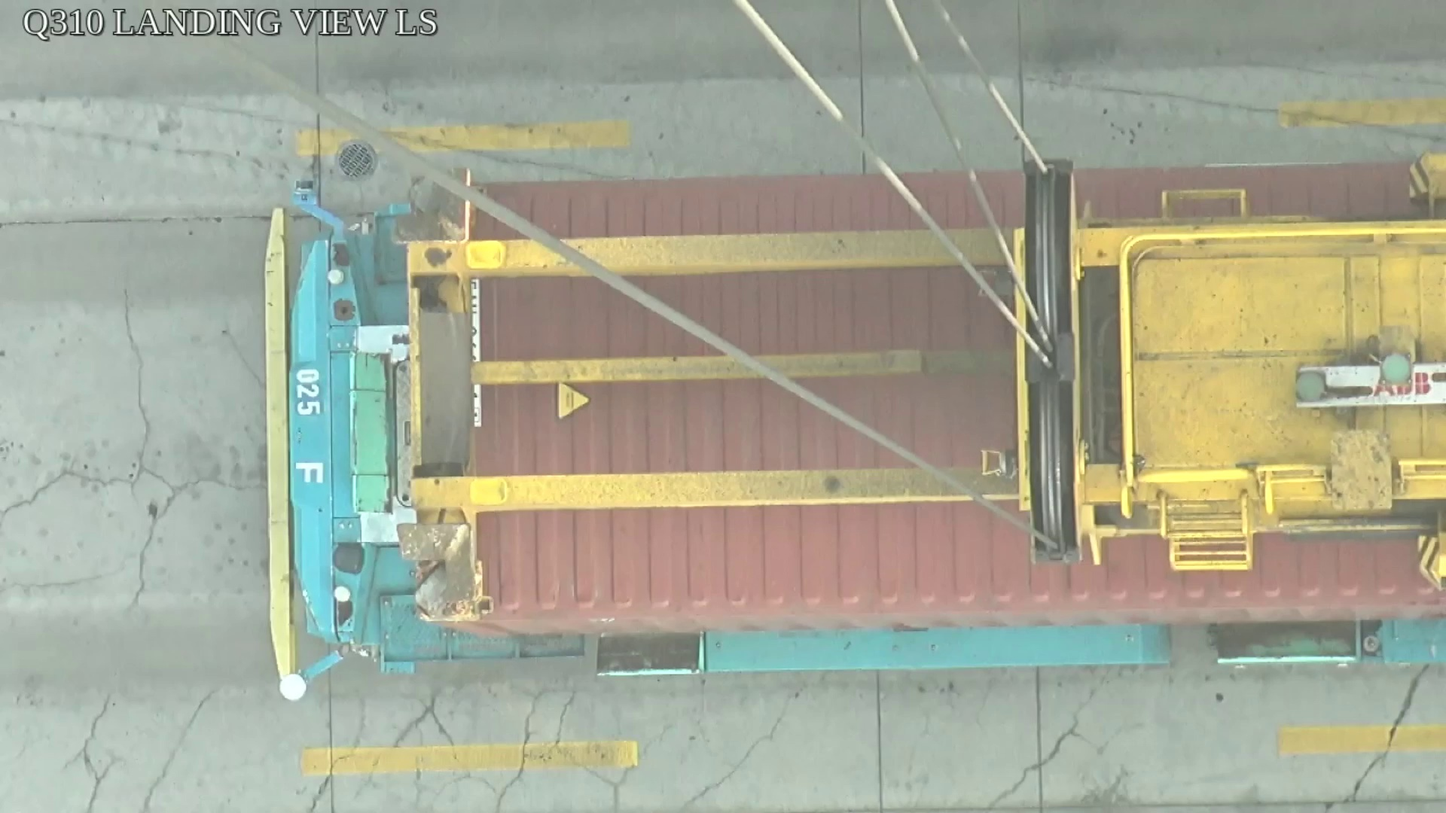aa: (1019, 157, 1086, 567)
